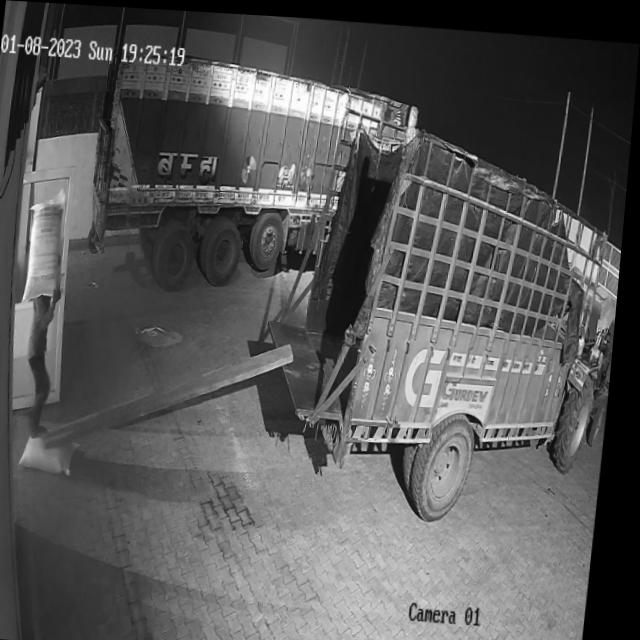sack: (26, 192, 72, 301), (27, 425, 88, 473)
